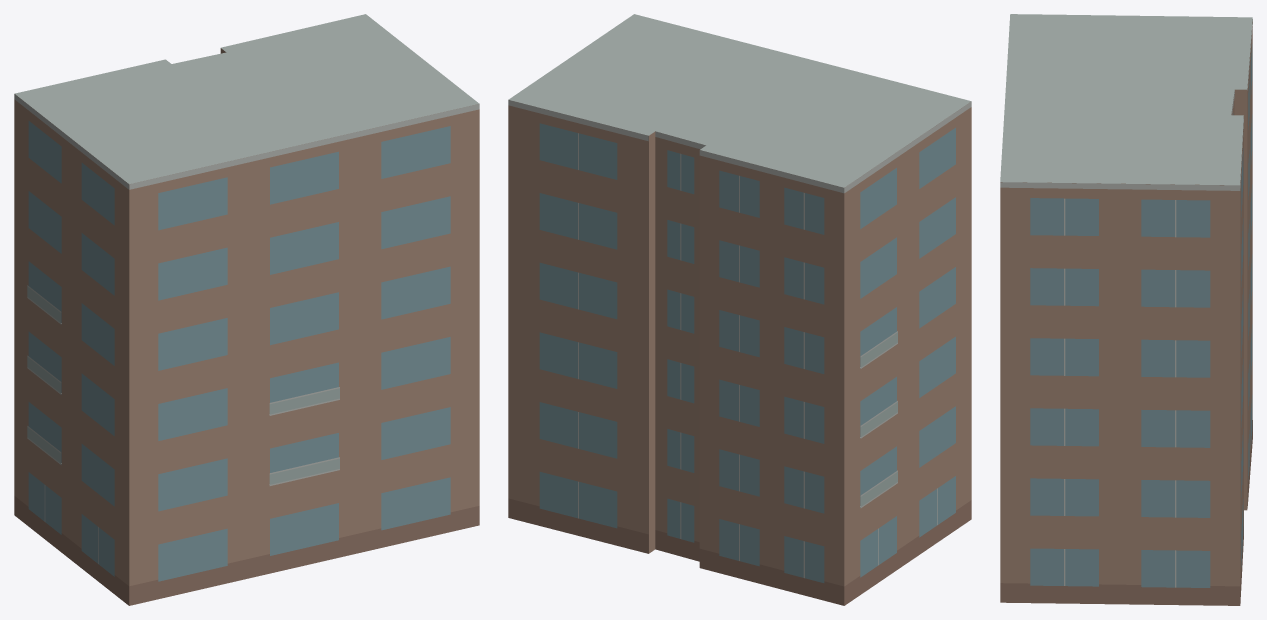
Rendered from survey-upis-33023641.glb.
The picture shows the model from 3 angles, left to right: view 1: azimuth 30°, elevation 25°; view 2: azimuth 150°, elevation 25°; view 3: azimuth 270°, elevation 25°; orthographic projection.
Parts seen in each view (by area): view 1: survey-upis-33023641.tmp; view 2: survey-upis-33023641.tmp; view 3: survey-upis-33023641.tmp.
Boxes of the visible parts, bbox=[...] form: survey-upis-33023641.tmp: bbox=[14, 14, 479, 605]; survey-upis-33023641.tmp: bbox=[508, 14, 971, 605]; survey-upis-33023641.tmp: bbox=[1000, 14, 1252, 605].
Size of the model in its own units: 16 by 18.3 by 9.97.
